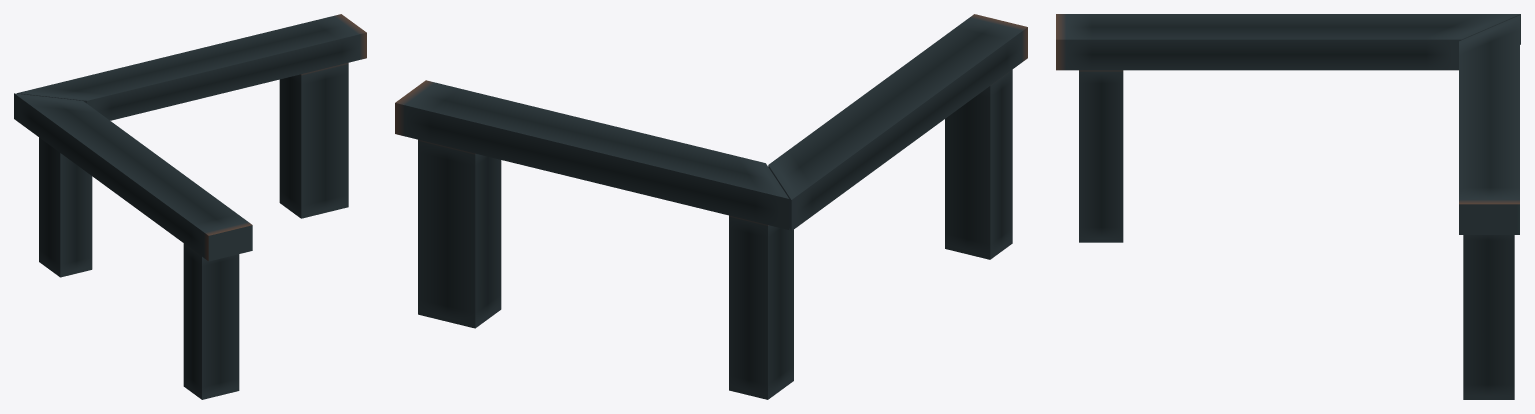
Rendered from horse_parking_corner_v03.fbx.
The picture shows the model from 3 angles, left to right: view 1: azimuth 30°, elevation 25°; view 2: azimuth 150°, elevation 25°; view 3: azimuth 270°, elevation 25°; orthographic projection. The views are drawn at different scales.
Parts seen in each view (by area): view 1: horse_parking_corner_v03; view 2: horse_parking_corner_v03; view 3: horse_parking_corner_v03.
Boxes of the visible parts, x1=… form: horse_parking_corner_v03: x1=14, y1=14, x2=366, y2=399; horse_parking_corner_v03: x1=395, y1=14, x2=1027, y2=399; horse_parking_corner_v03: x1=1056, y1=14, x2=1520, y2=399.
Bounding box in the file's own units: 279 × 140 × 288.
